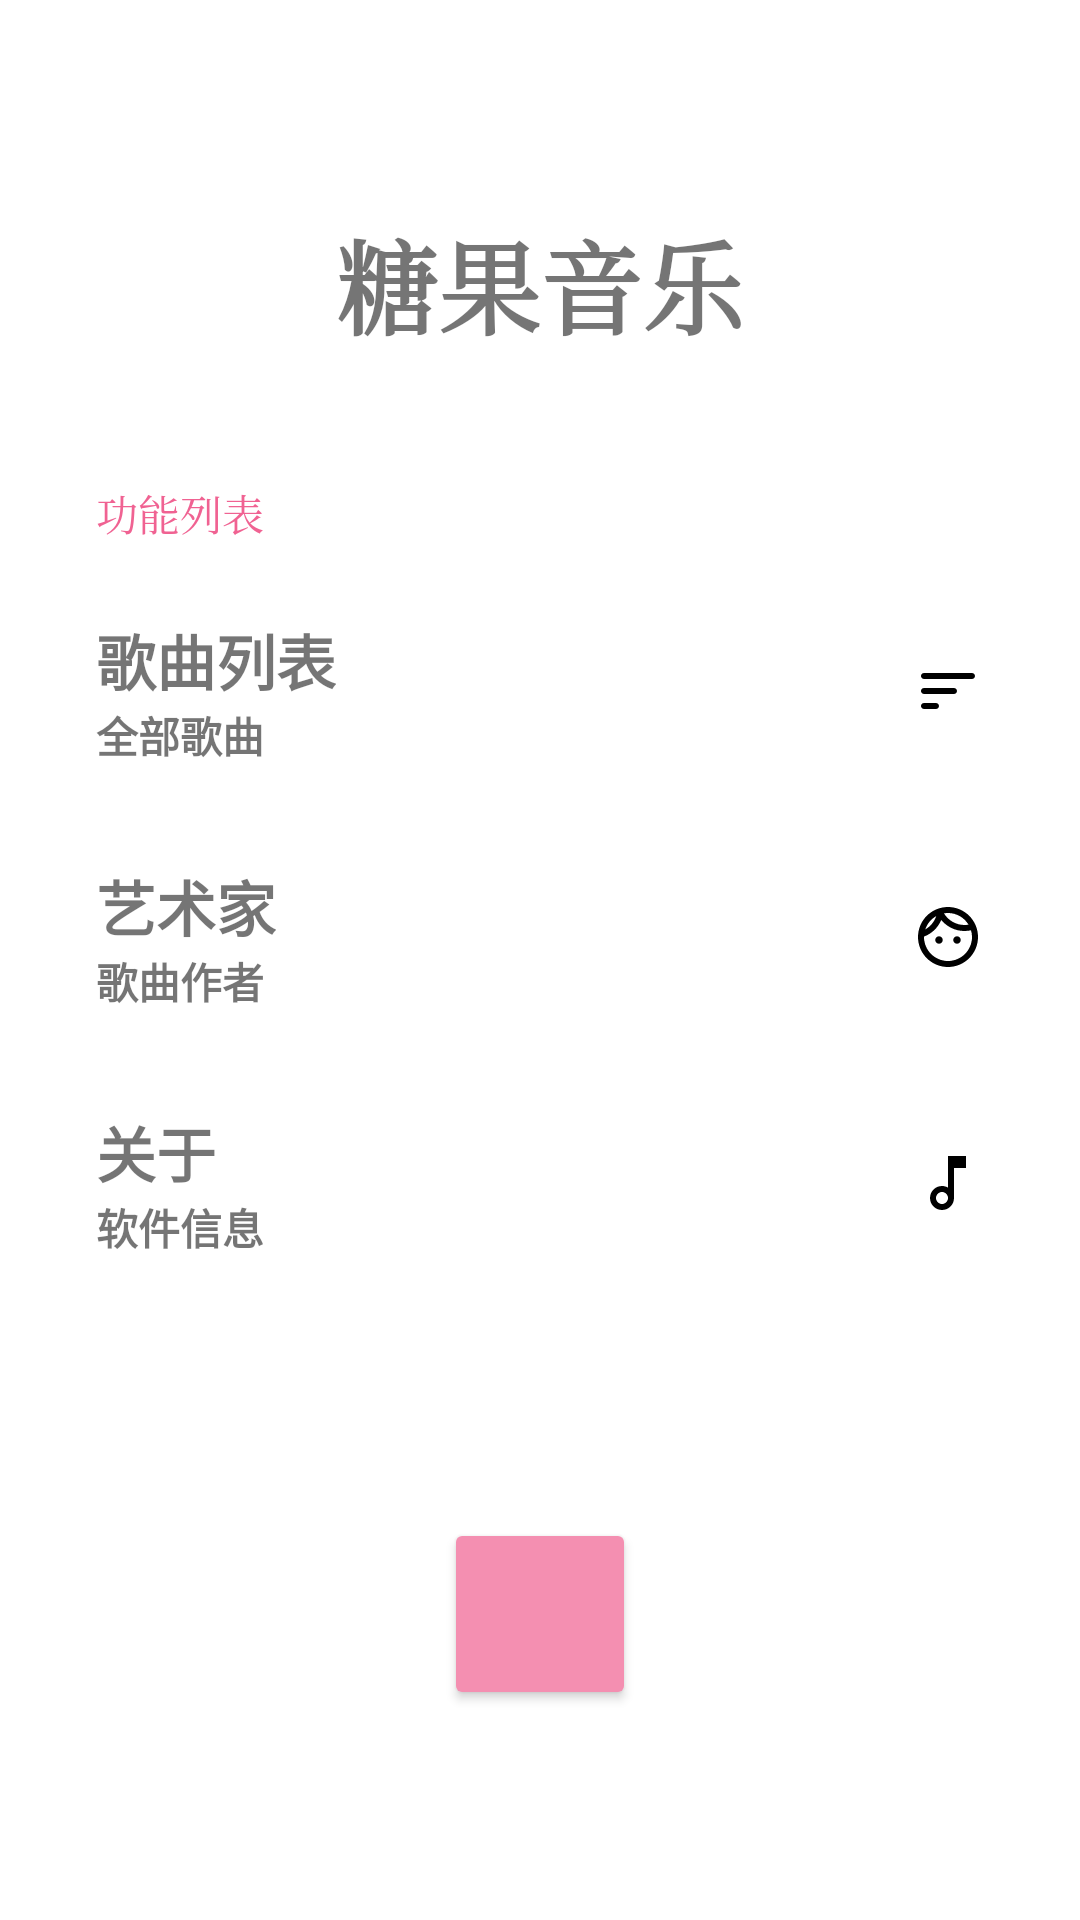

Locate icon controls on the screen. Image size 1080w x 1920h, boxes as (x1, y1, x2, y2).
audiotrack: (930, 1156, 966, 1210)
face: (918, 907, 978, 967)
sort: (921, 673, 975, 709)
